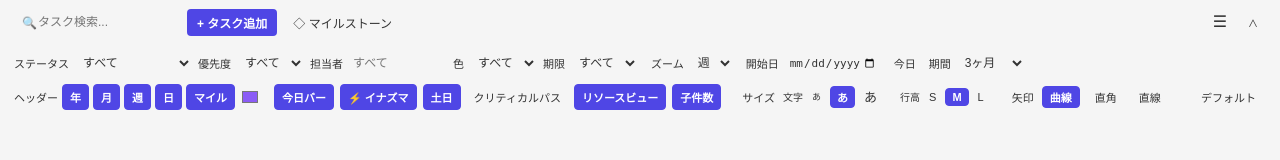
Test: Toolbar 2段レイアウト › 折りたたんだ後に∨ボタンをクリックすると行2が再表示される
Click the button named "ガント設定を閉じる" at (1253, 22), box [1240,10,1266,34]
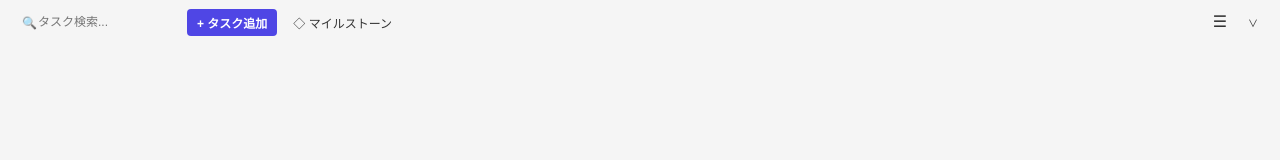
Click the button named "ガント設定を開く" at (1253, 22), box [1240,10,1266,34]
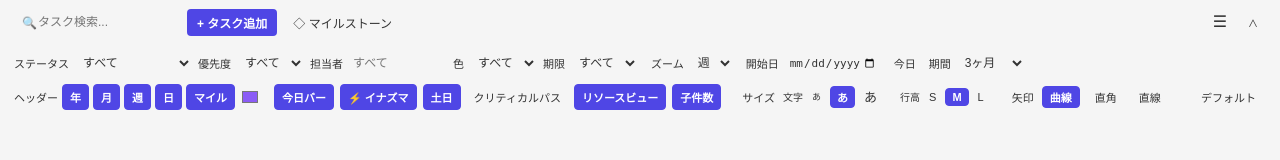
expect the element with test id "toolbar-row2" is shown: met, box [0,44,1279,117]
